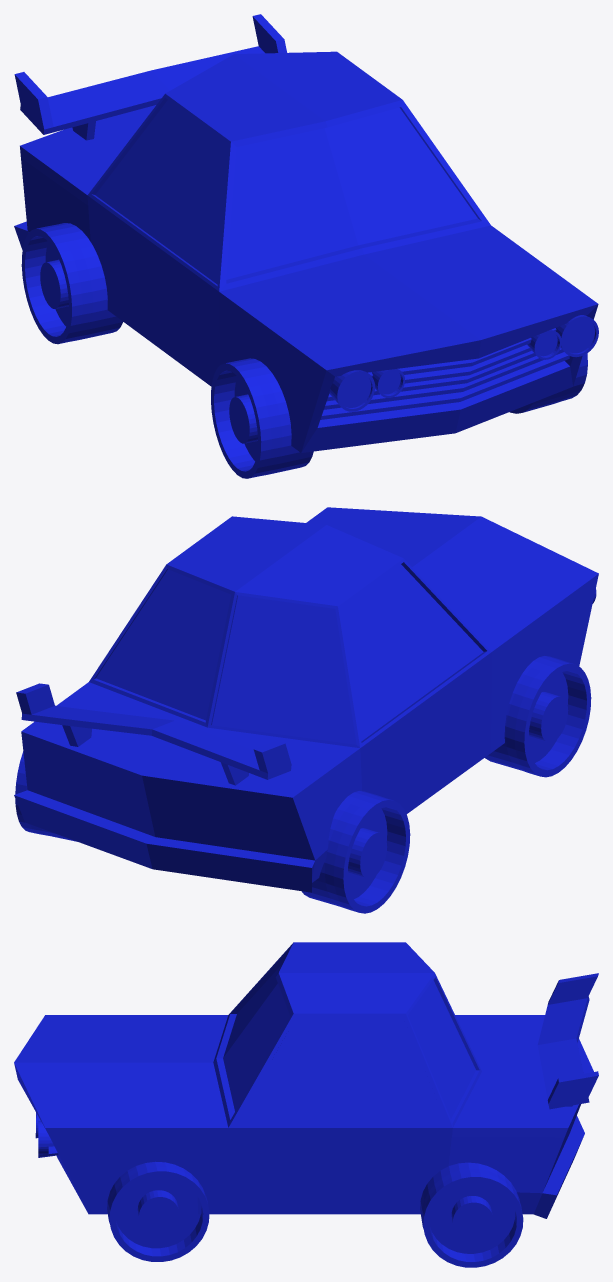
The model's file is auto azul.fbx.
3 renders of one model, top to bottom at view 1: azimuth 30°, elevation 25°; view 2: azimuth 150°, elevation 25°; view 3: azimuth 270°, elevation 25°, orthographic. The views are drawn at different scales.
Parts seen in each view (by area): view 1: Cube.5413; view 2: Cube.5413; view 3: Cube.5413.
Part boxes in pixels (bbox=[...]): Cube.5413: bbox=[14, 14, 598, 478]; Cube.5413: bbox=[14, 507, 598, 913]; Cube.5413: bbox=[14, 942, 598, 1267].
Size of the model in its own units: 775 by 562 by 1333.
